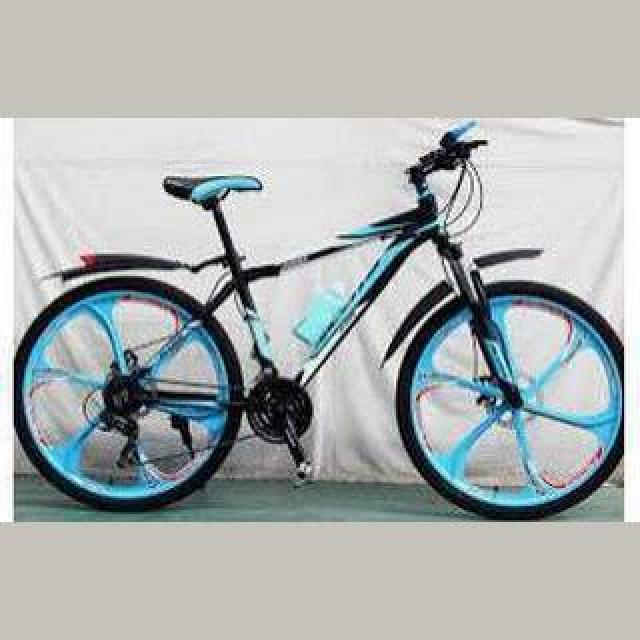Person: (12, 120, 628, 520)
